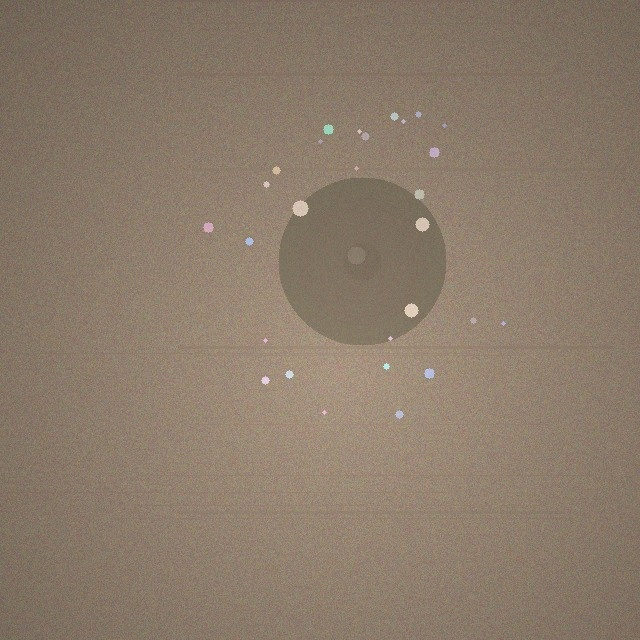overburn: (278, 177, 446, 345)
